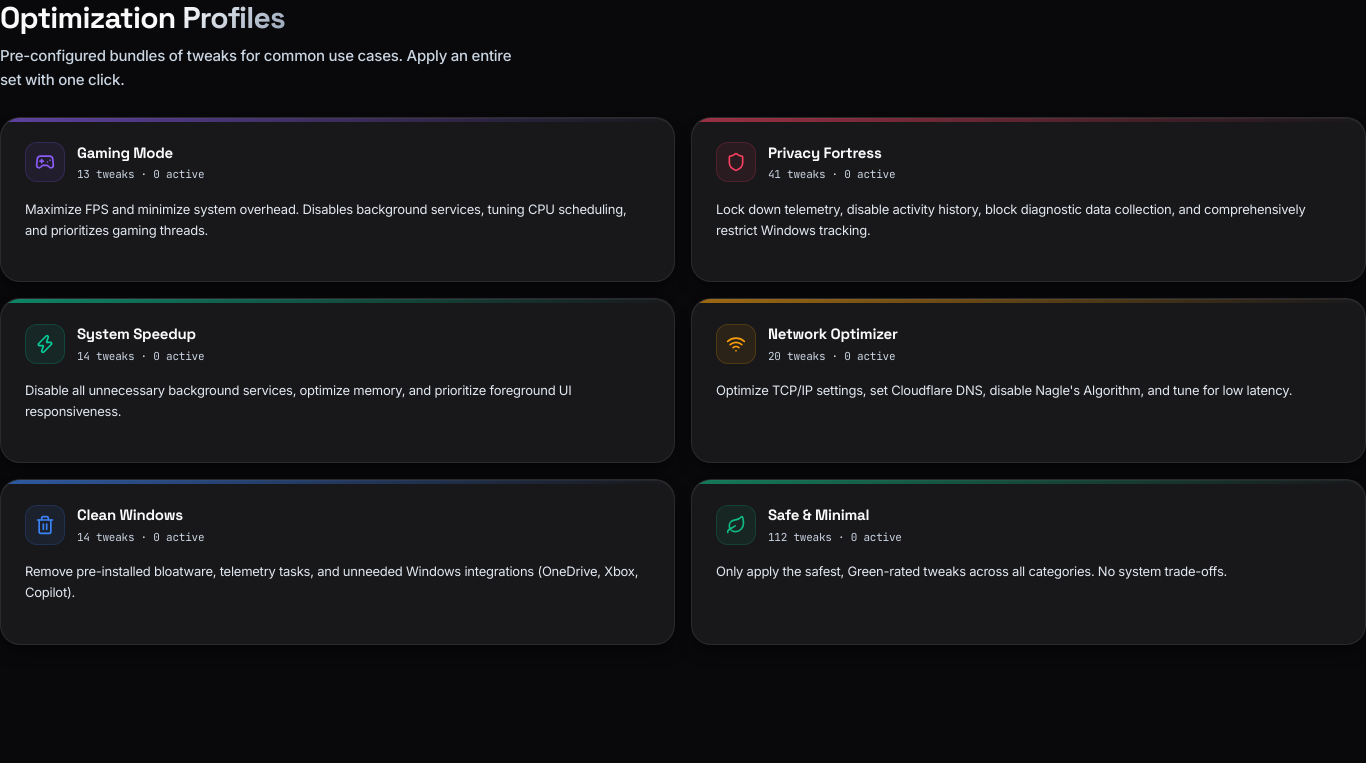
Test case: ProfilesPage › clicking a profile card expands it showing tweaks
Note: Click Safe & Minimal to expand
Click the heading "Safe & Minimal".
click(819, 515)  # box [768,505,869,524]
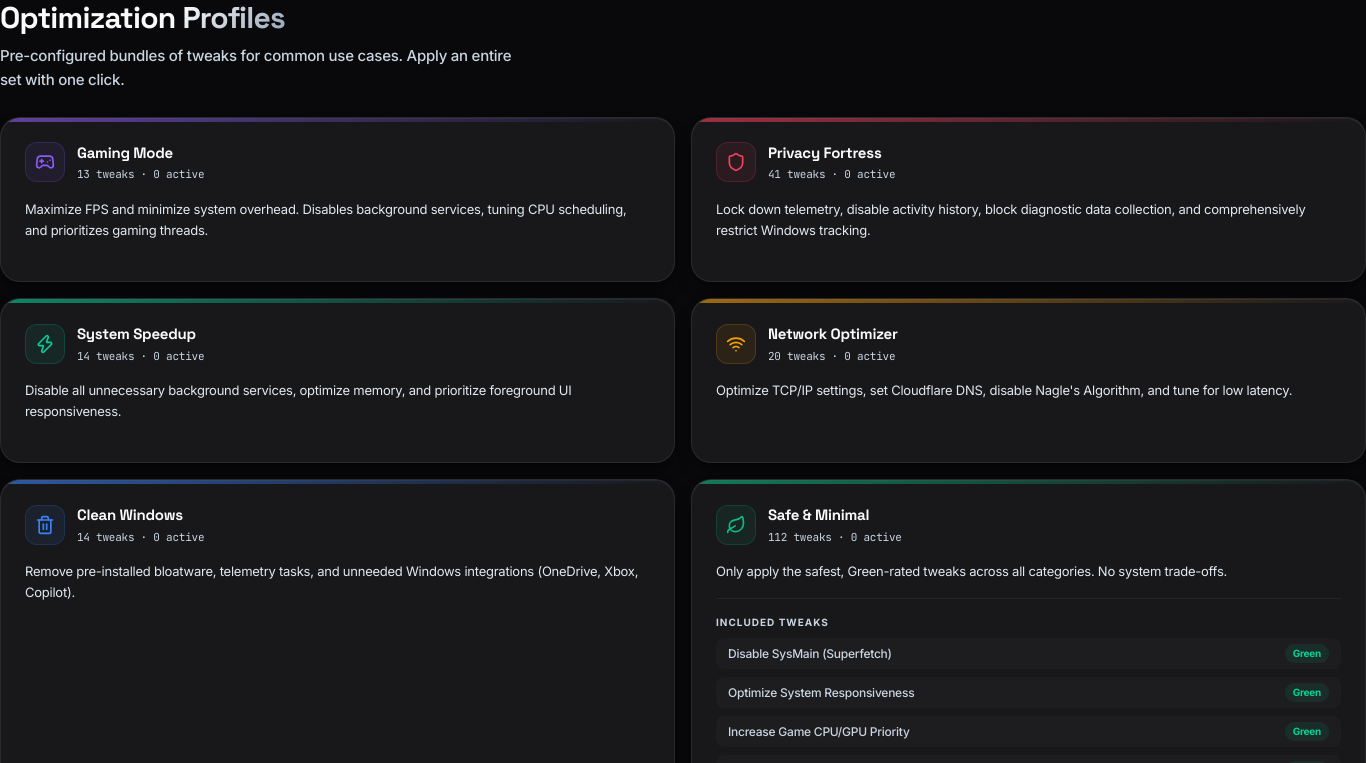
Now the text "Included Tweaks" is shown, box [716,616,829,628]
